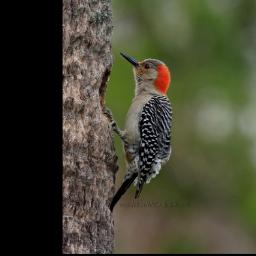Woodpecker: (105, 47, 179, 222)
